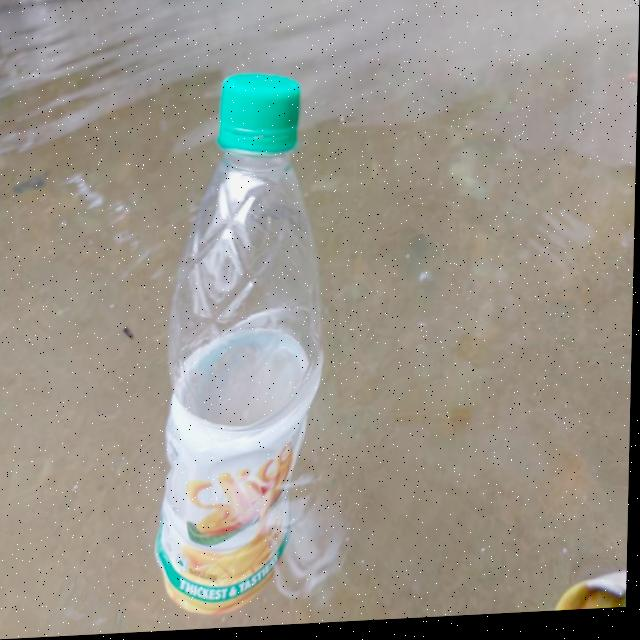waterbottle: (156, 57, 355, 633)
